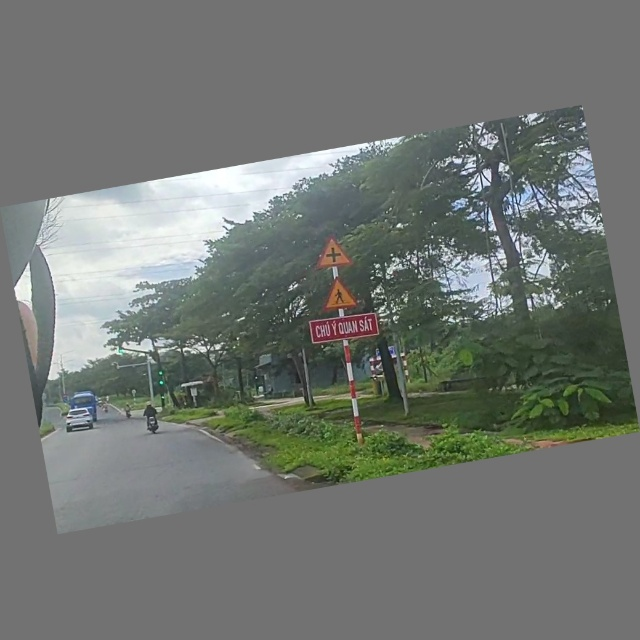W.205a: (311, 232, 357, 270)
W.224: (317, 272, 367, 312)
